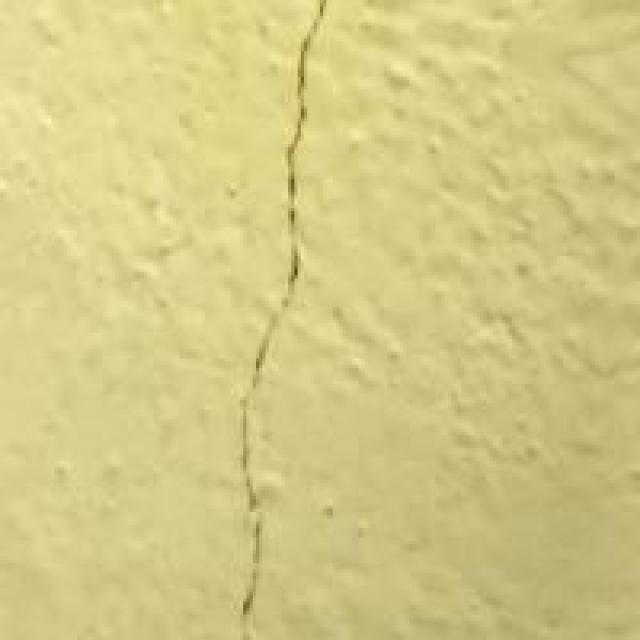crack: (198, 6, 378, 602)
